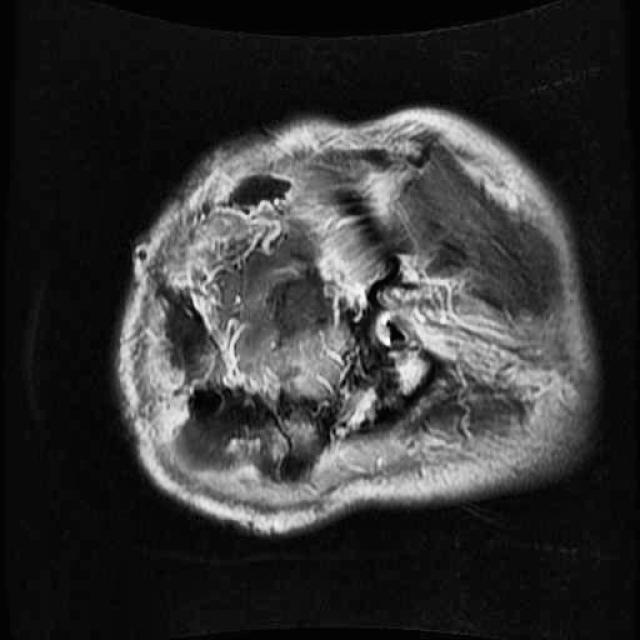Tumor: (168, 358, 332, 487)
